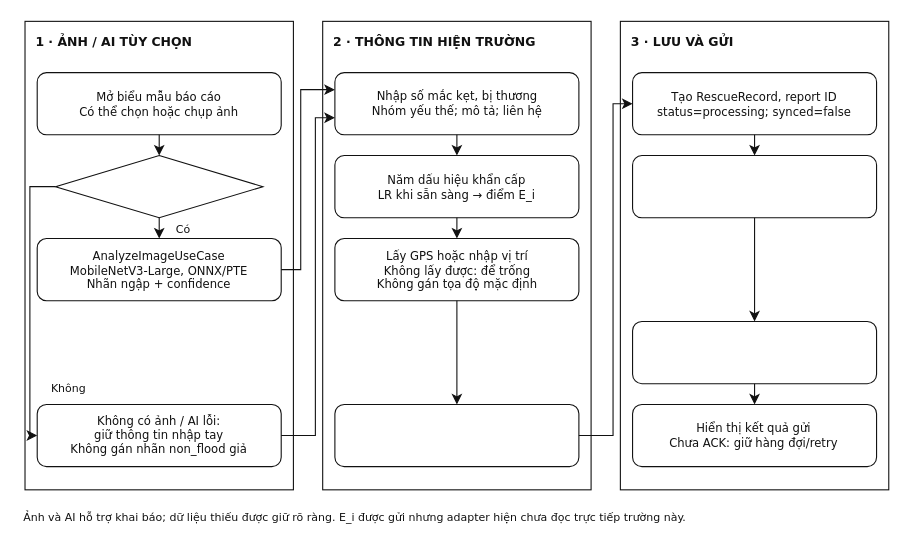
The diagram is 910 pixels wide and 548 high, and some of its shapes have lost their labels. The centre of each missing label's shape, as x and y in pixels:
Có ảnh và AI đã sẵn sàng?: (158,186)
deliverRecord Gửi thích ứng; ACK metadata Ảnh có thể đồng bộ sau: (754,352)
Ghi bản ghi + Outbox Định danh message/hash/sequence: (754,186)
Kiểm tra dữ liệu nhập Bảo toàn ảnh cục bộ: (456,435)
